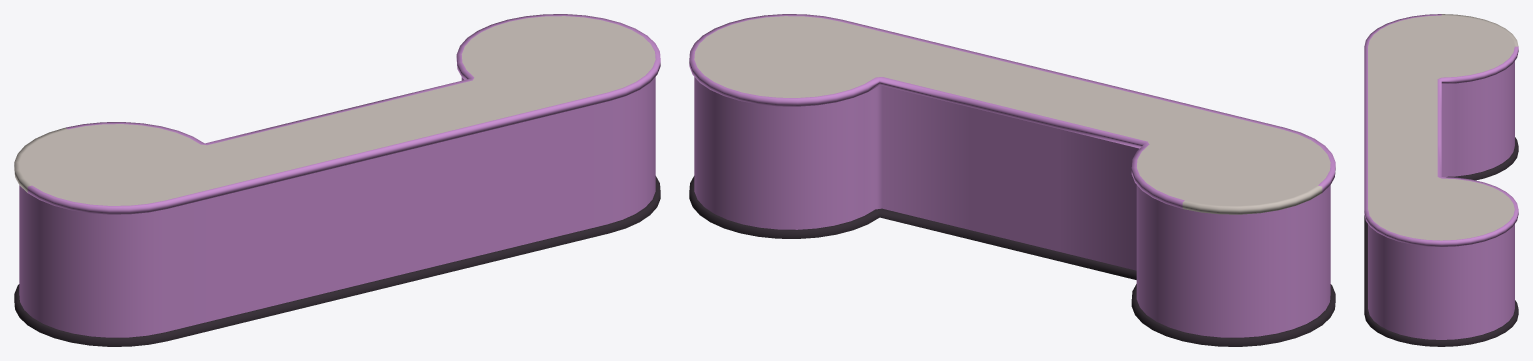
The model's file is GB_counter_pharmacy.glb.
3 views of the same model, side by side, from view 1: azimuth 30°, elevation 25°; view 2: azimuth 150°, elevation 25°; view 3: azimuth 270°, elevation 25° (orthographic). The views are drawn at different scales.
Visible parts, largest first — view 1: Corner.020; view 2: Corner.020; view 3: Corner.020.
Boxes of the visible parts, left/top/right/bottom form: Corner.020: left=14, top=14, right=660, bottom=346; Corner.020: left=689, top=14, right=1335, bottom=346; Corner.020: left=1364, top=14, right=1518, bottom=346.
Bounding box in the file's own units: 5.25 × 1.12 × 1.5.
